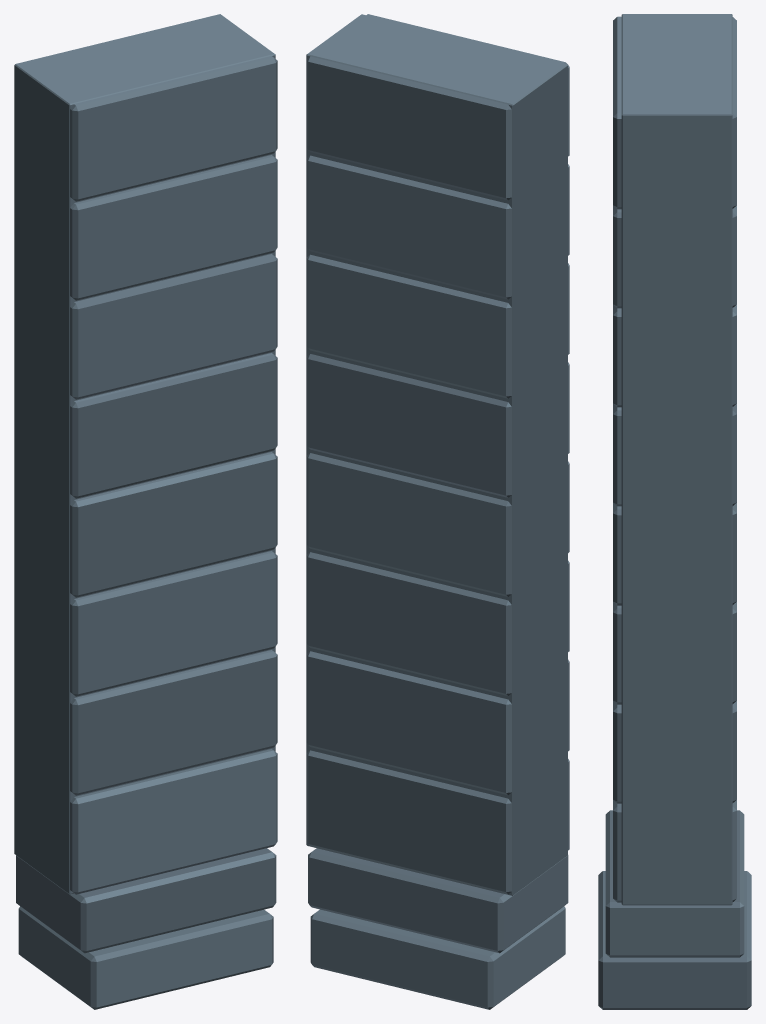
The model's file is EH_Wall_Solid_1m.fbx.
3 renders of one model, left to right at view 1: azimuth 30°, elevation 25°; view 2: azimuth 150°, elevation 25°; view 3: azimuth 270°, elevation 25°, orthographic.
Parts seen in each view (by area): view 1: EH_Wall_Solid_1m; view 2: EH_Wall_Solid_1m; view 3: EH_Wall_Solid_1m.
Boxes of the visible parts, x1=… form: EH_Wall_Solid_1m: x1=14, y1=14, x2=277, y2=1009; EH_Wall_Solid_1m: x1=306, y1=14, x2=569, y2=1009; EH_Wall_Solid_1m: x1=598, y1=14, x2=751, y2=1009.
Bounding box in the file's own units: 0.656 × 2.74 × 0.42.
